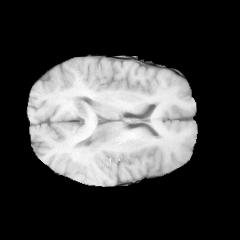glioma: (73, 98, 110, 159)
